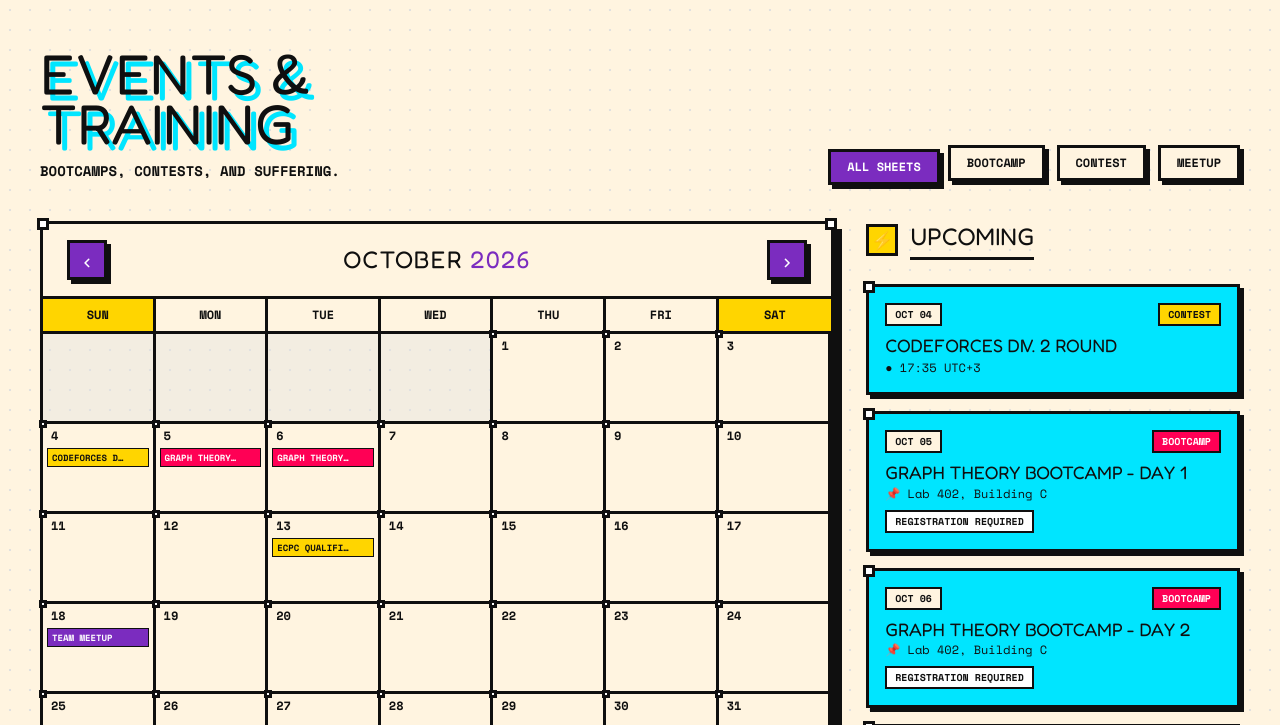
Test: EventsPage › filters both the sidebar and the calendar by event type
Click the button "BOOTCAMP".
click(996, 163)  # box [948, 145, 1044, 181]
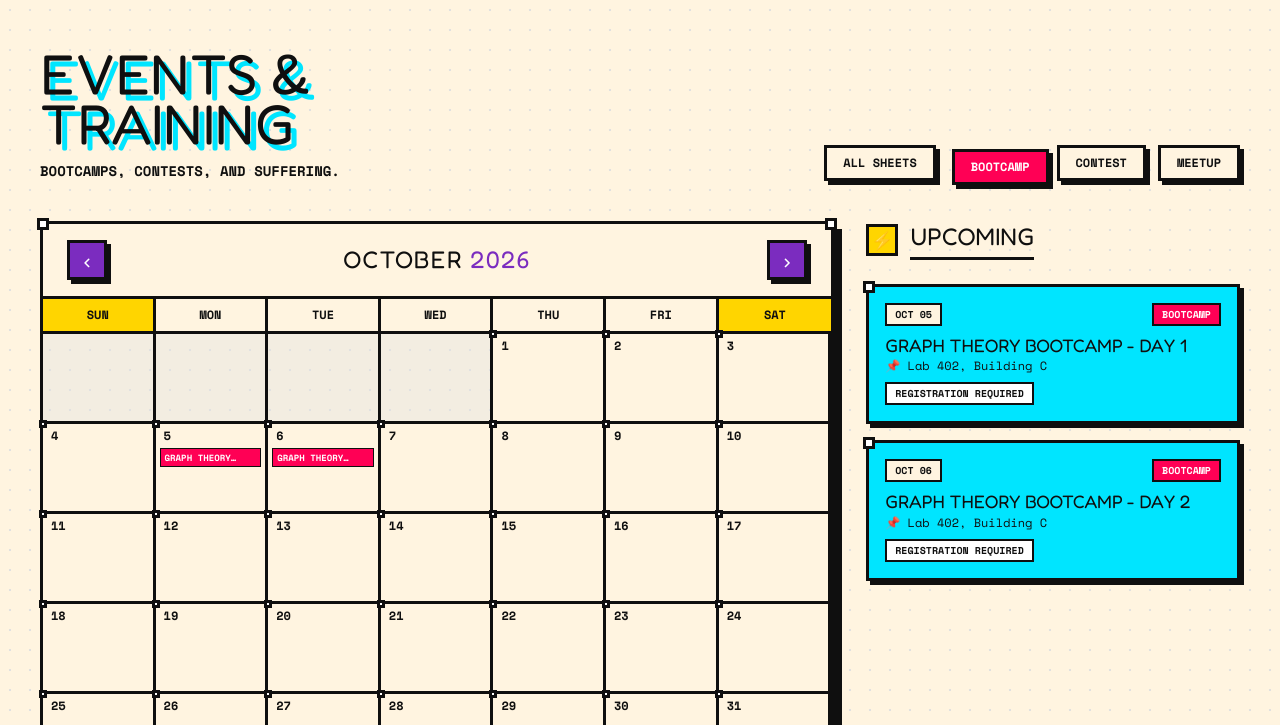
expect the button "Codeforces Div. 2 Round" is gone: met
expect the heading "Graph Theory Bootcamp - Day 1" is shown: met, box [885, 334, 1221, 356]
expect the heading "Graph Theory Bootcamp - Day 2" is shown: met, box [885, 490, 1221, 513]
